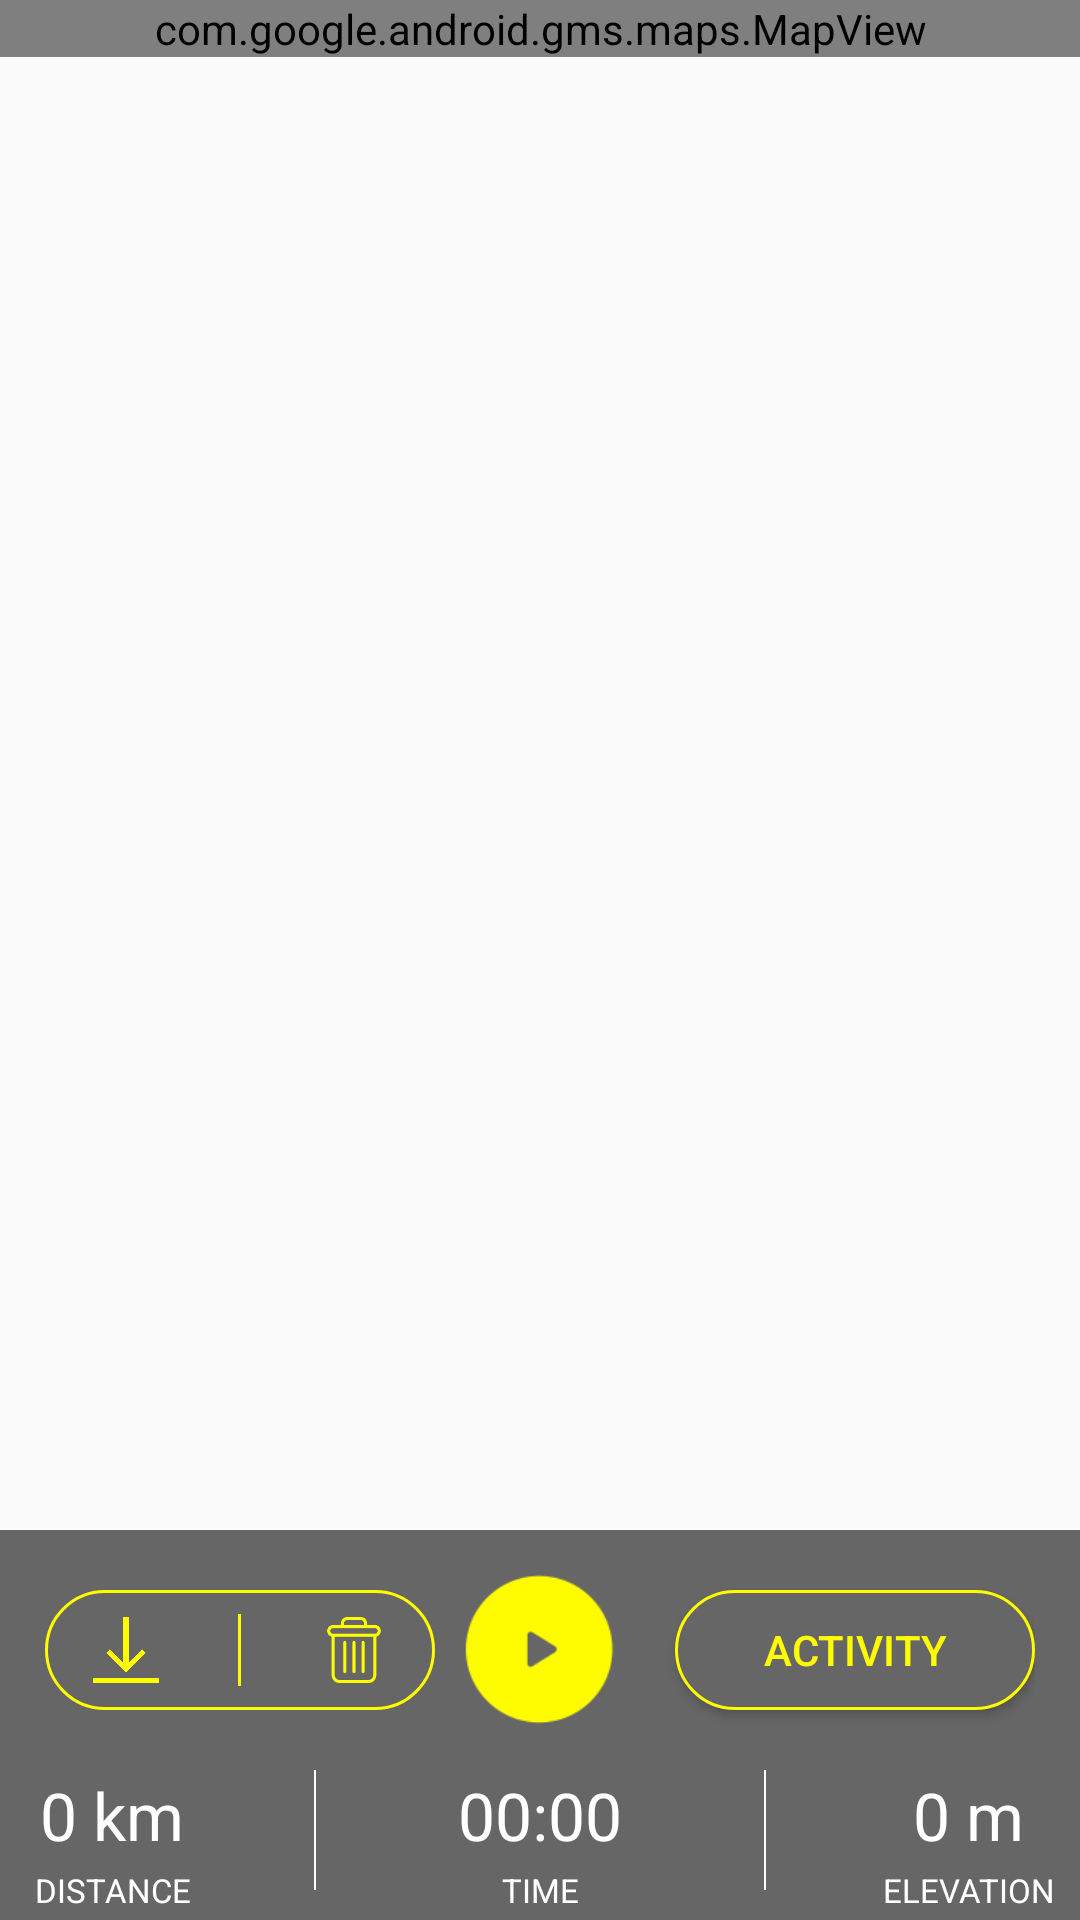

Screen size 1080×1920. Icon name, then its center in pixels as point (x, y):
delete: point (354, 1650)
download: point (126, 1650)
